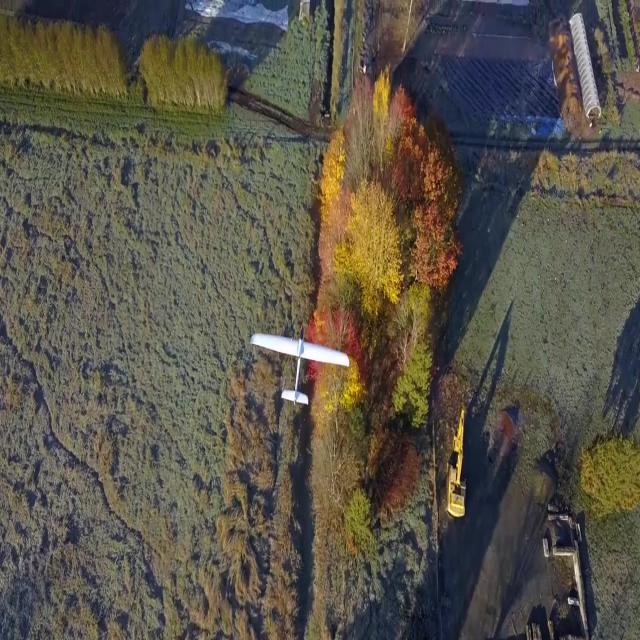iha: (282, 356, 318, 374)
